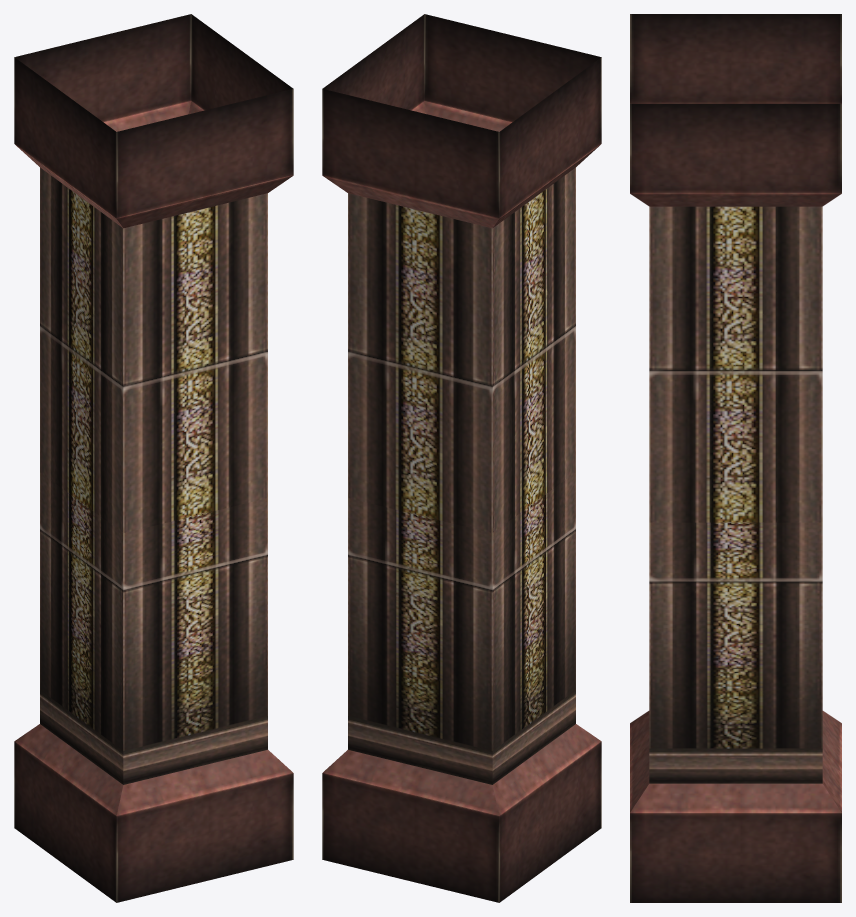
File: SwordRoom_1_newwall02.FBX
3 views of the same model, side by side, from view 1: azimuth 30°, elevation 25°; view 2: azimuth 150°, elevation 25°; view 3: azimuth 270°, elevation 25° (orthographic). The views are drawn at different scales.
Visible parts, largest first — view 1: SwordRoom_1_newwall02; view 2: SwordRoom_1_newwall02; view 3: SwordRoom_1_newwall02.
Boxes of the visible parts, x1=… form: SwordRoom_1_newwall02: x1=14, y1=14, x2=293, y2=902; SwordRoom_1_newwall02: x1=322, y1=14, x2=601, y2=902; SwordRoom_1_newwall02: x1=630, y1=14, x2=841, y2=902.
Bounding box in the file's own units: 146 × 607 × 146.
1 material, 1 textured.
